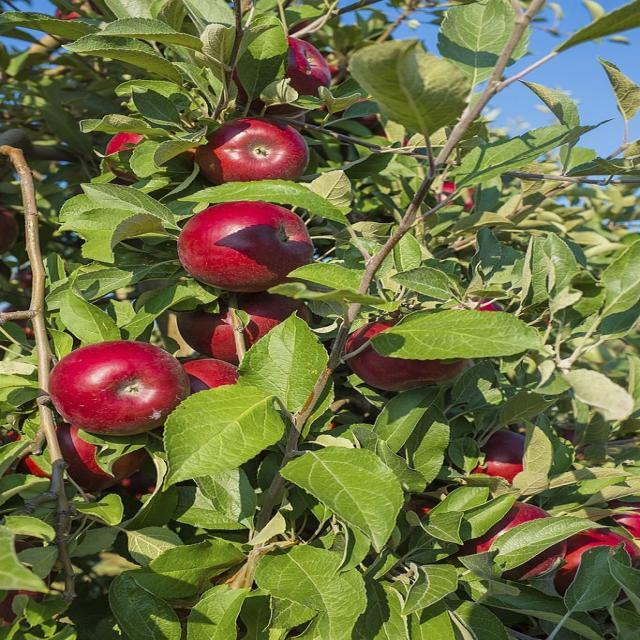Red Apple: (173, 200, 316, 286), (50, 346, 194, 422), (200, 112, 311, 183), (355, 320, 468, 385), (187, 292, 303, 352), (26, 424, 128, 487), (466, 508, 557, 568), (246, 36, 333, 97), (554, 529, 640, 585), (1, 541, 48, 620), (462, 429, 533, 481), (173, 356, 250, 395), (102, 125, 154, 181), (108, 474, 158, 516), (401, 493, 438, 535), (603, 499, 640, 541), (435, 178, 477, 213), (460, 296, 508, 324), (1, 202, 19, 252), (55, 1, 92, 24)
